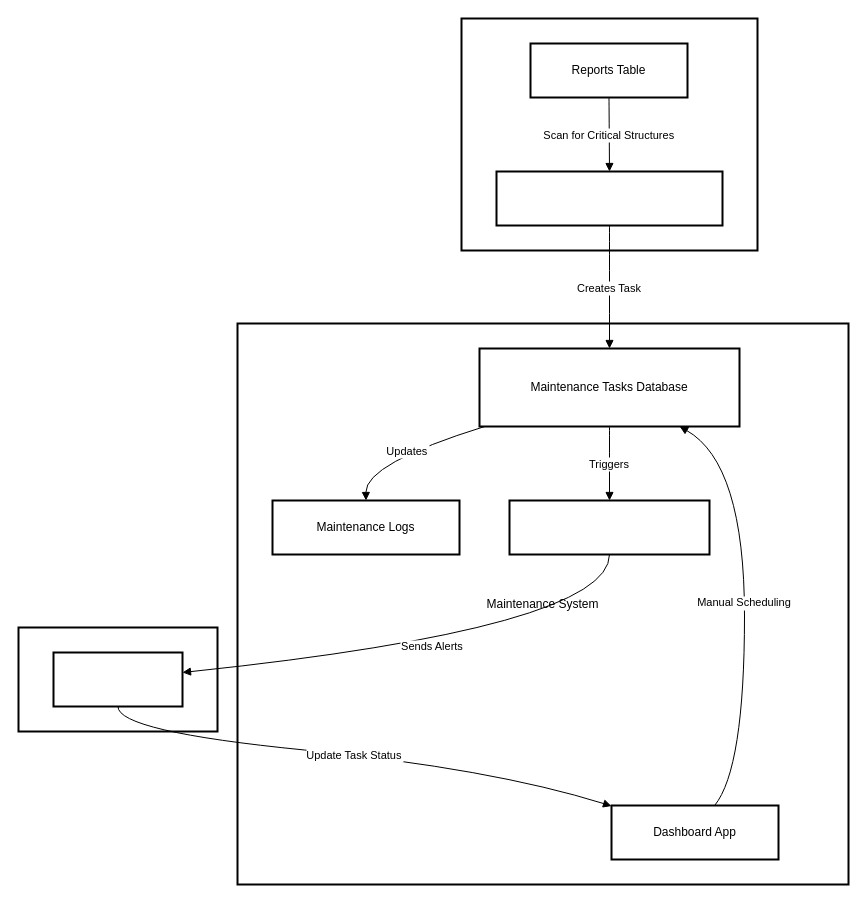
This 866x902 diagram has some shape labels left out. Here are the shapes that lost their labels. From the top down, the centre of each, then its label:
At pixel 609 198: "Maintenance Scheduler".
At pixel 609 527: "Notification System".
At pixel 117 679: "Engineers".
